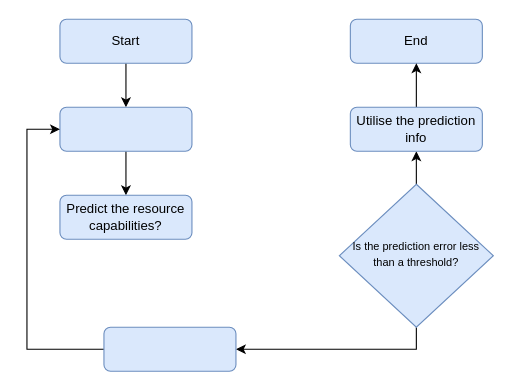
Some shapes in this 513 by 391 pixel diagram are drawn without their labels. The centre of each missing label's shape, as x and y in pixels:
"Training the LSTM model" goes at [125,128].
"Tune the model parameters" goes at [169,348].
